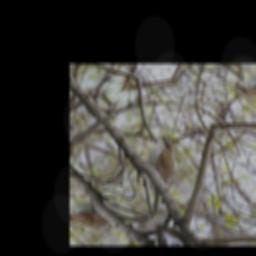Cuckoo: (110, 134, 207, 222)
